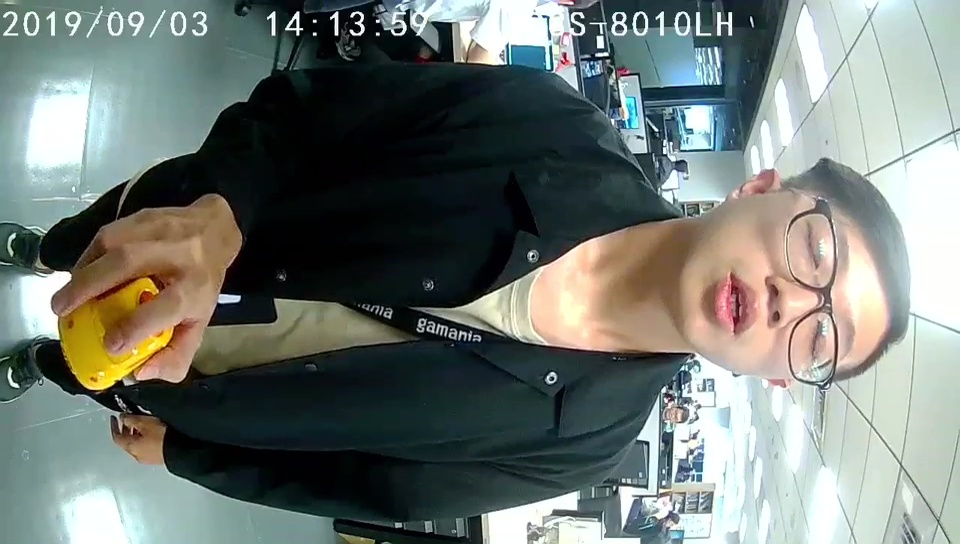car: (56, 276, 177, 394)
